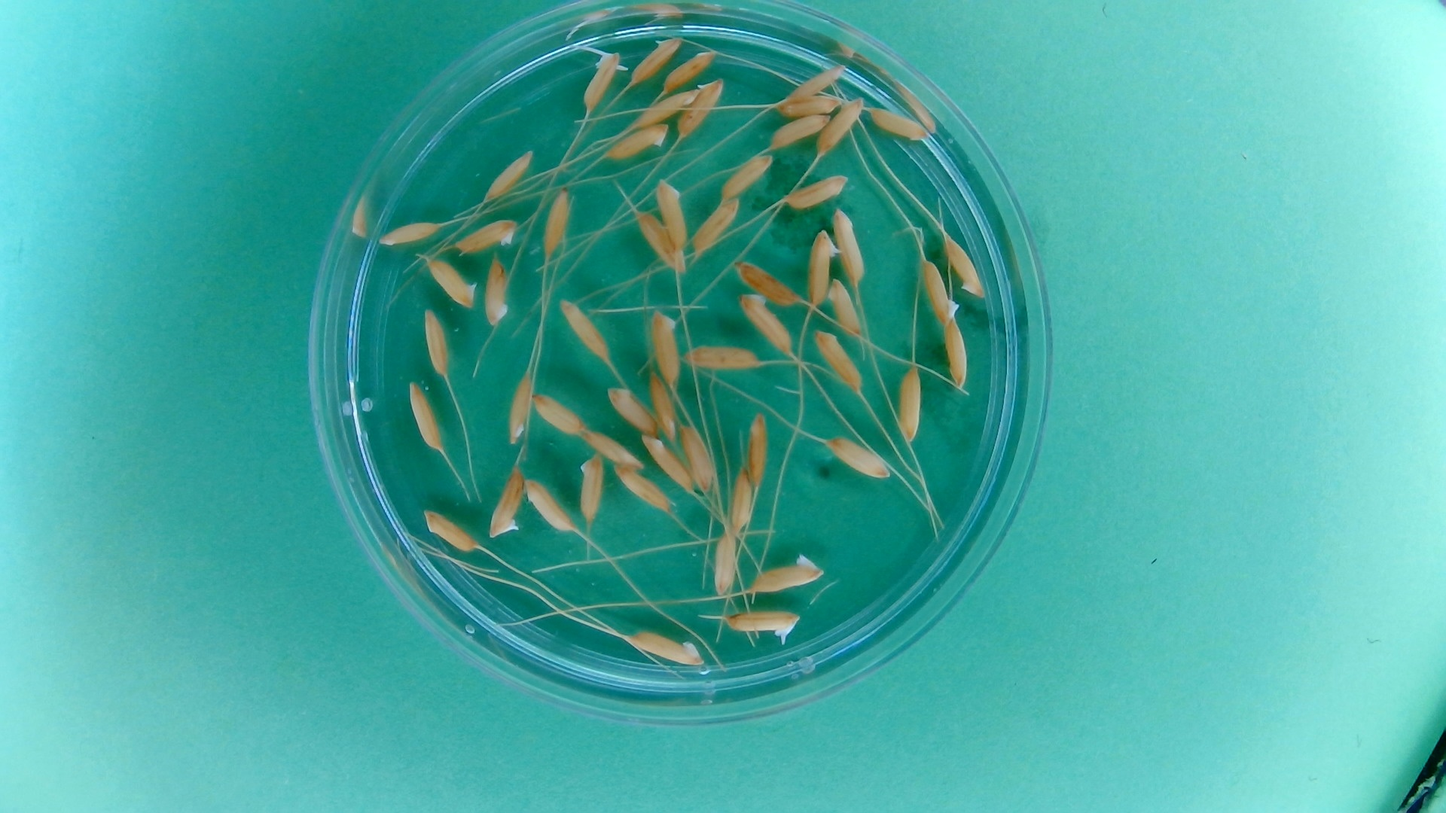no: (737, 288, 795, 356), (557, 295, 612, 363), (733, 256, 803, 308), (633, 208, 686, 276), (811, 326, 863, 394), (639, 431, 695, 494), (823, 433, 893, 483), (746, 553, 826, 596), (610, 460, 673, 513), (814, 93, 866, 157), (480, 147, 537, 205), (630, 85, 703, 130), (624, 628, 705, 668), (678, 73, 726, 140), (523, 474, 576, 534), (691, 196, 743, 257), (423, 253, 478, 310), (942, 232, 987, 301), (659, 46, 720, 96), (677, 419, 718, 493), (830, 205, 868, 284), (627, 33, 682, 87), (604, 384, 660, 437), (406, 379, 445, 454), (578, 426, 645, 469), (646, 307, 682, 387), (778, 64, 848, 105), (487, 465, 525, 540), (804, 227, 839, 308), (654, 176, 691, 252), (718, 151, 773, 202), (421, 507, 480, 554), (920, 257, 961, 324), (863, 104, 931, 144), (451, 217, 520, 256), (682, 340, 761, 374), (603, 121, 670, 161), (531, 390, 587, 437), (892, 365, 925, 444), (539, 186, 573, 262), (782, 172, 850, 209), (646, 370, 679, 445), (767, 113, 832, 151), (481, 252, 513, 329), (826, 276, 863, 340), (419, 305, 451, 378), (576, 452, 607, 527), (503, 372, 534, 446), (941, 315, 972, 389), (743, 408, 771, 489), (376, 216, 444, 248), (709, 529, 740, 598), (726, 467, 755, 537), (777, 92, 845, 118)
yes: (723, 607, 802, 642), (581, 50, 622, 114)
